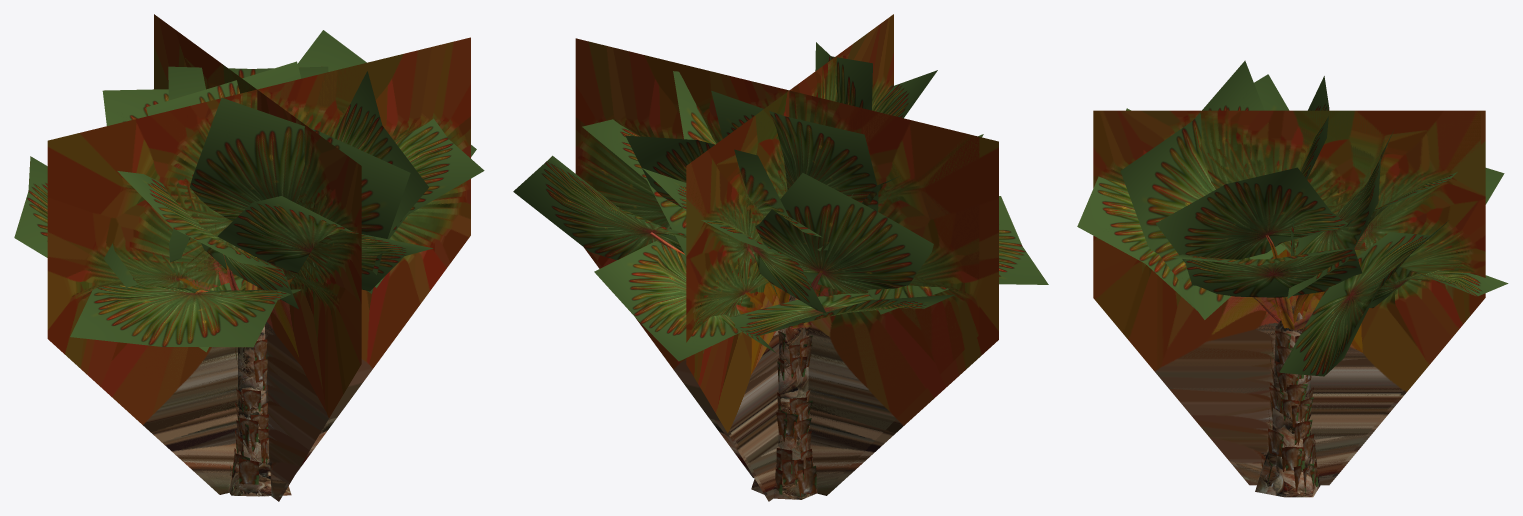
File: Latania1.fbx
The picture shows the model from 3 angles, left to right: view 1: azimuth 30°, elevation 25°; view 2: azimuth 150°, elevation 25°; view 3: azimuth 270°, elevation 25°; orthographic projection. The views are drawn at different scales.
Visible parts, largest first — view 1: Billboard, LOD0; view 2: Billboard, LOD0; view 3: Billboard, LOD0.
Part boxes in pixels (x1=…): Billboard: x1=47, y1=14, x2=470, y2=501; LOD0: x1=14, y1=30, x2=484, y2=496; Billboard: x1=575, y1=14, x2=998, y2=501; LOD0: x1=513, y1=42, x2=1048, y2=499; Billboard: x1=1093, y1=110, x2=1485, y2=485; LOD0: x1=1077, y1=60, x2=1508, y2=497.
Size of what is drawn, in the model's own units: 197 by 168 by 165.
